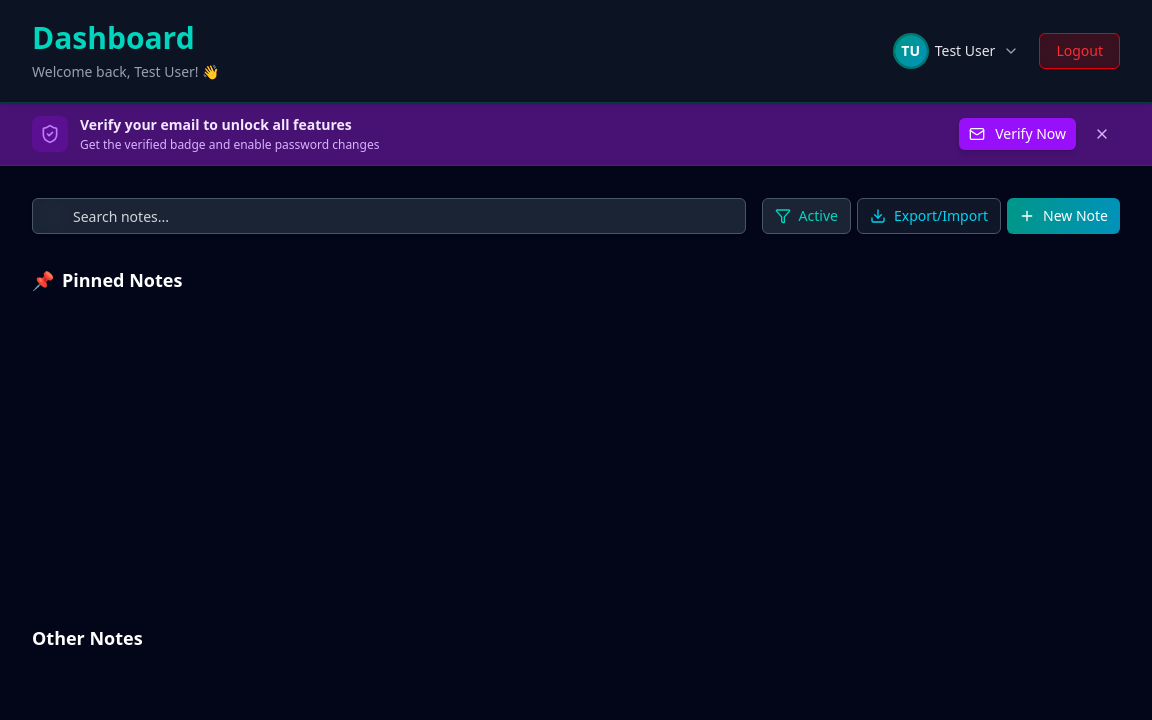
Test case: DashboardPage › handles search functionality
The width and height of the screenshot is (1152, 720).
Step 1. Type "pinned" into the field with placeholder "Search notes..." → (389, 216), box [32,198,746,234]
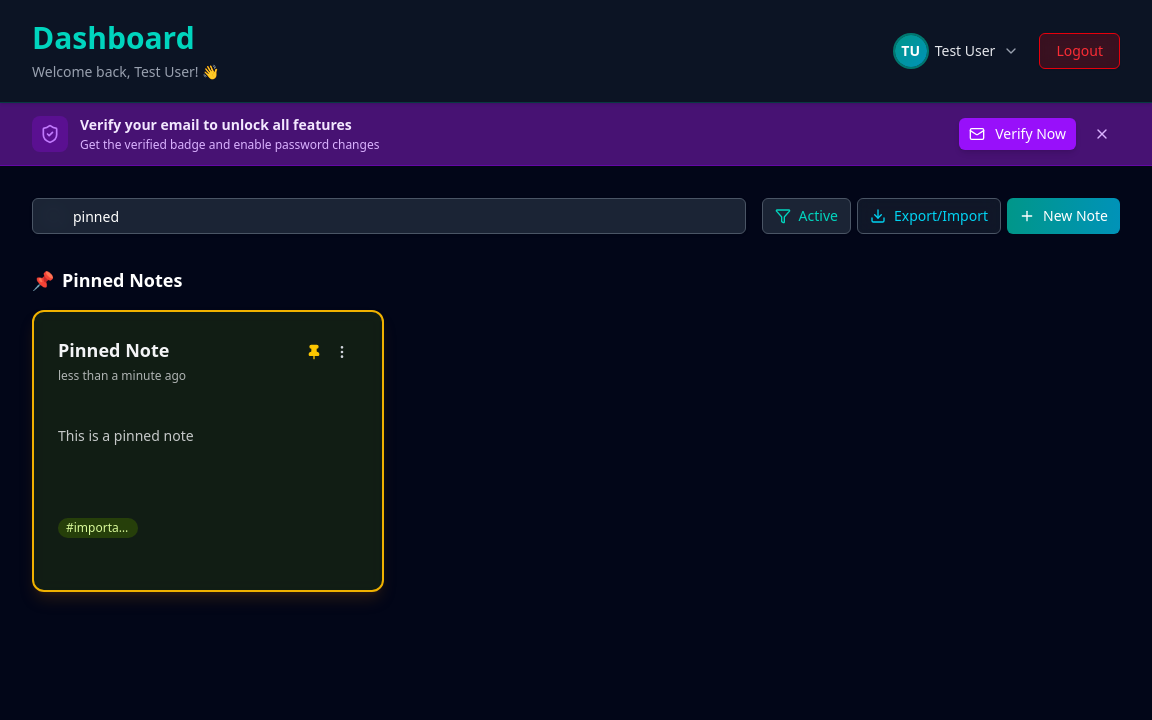
Expected: the heading "Pinned Note" is shown, [58,338,169,362]
